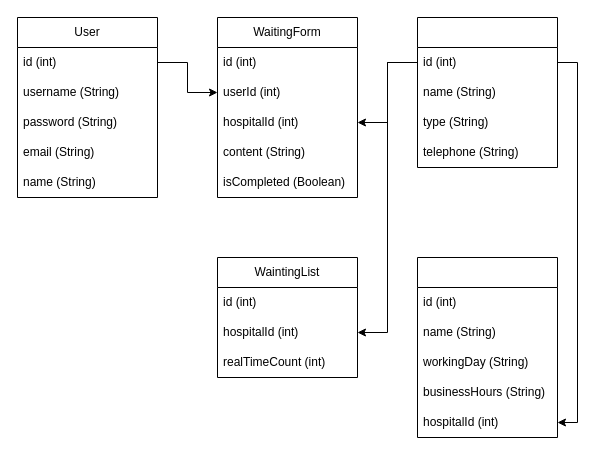
Image size: 603x455. Some labels were removed from this diagram. The box of each missing label's shape, as (x1, y1, x2, y2) in pixels:
Doctor: (416, 256, 558, 438)
Hospital: (416, 16, 558, 168)
